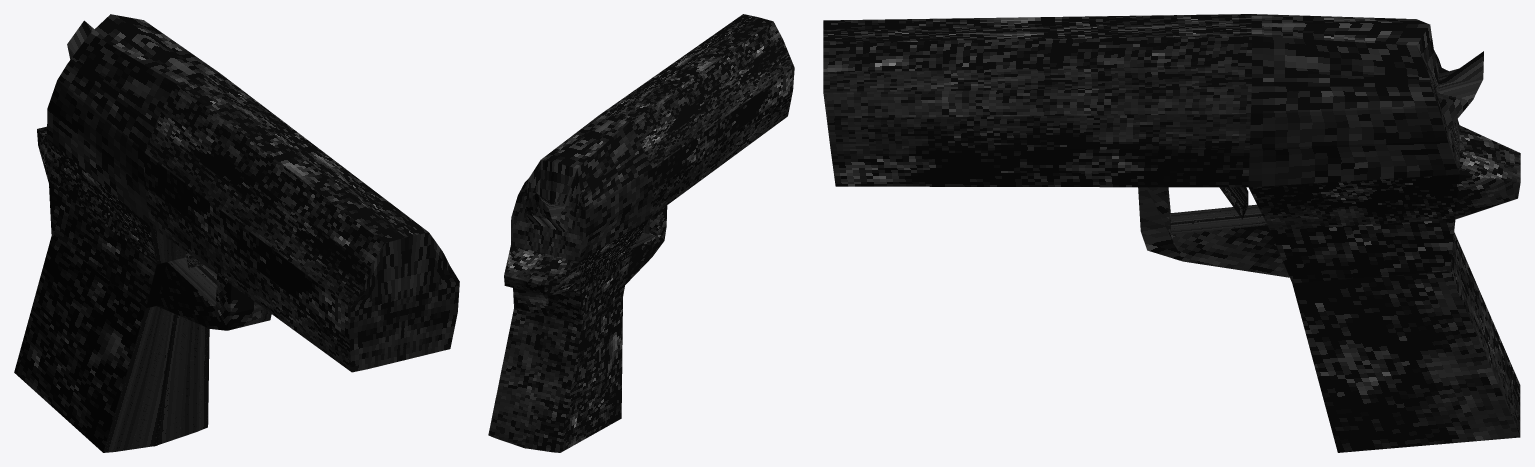
Rendered from gun textured 1.fbx.
3 renders of one model, left to right at view 1: azimuth 30°, elevation 25°; view 2: azimuth 150°, elevation 25°; view 3: azimuth 270°, elevation 25°, orthographic. The views are drawn at different scales.
Parts seen in each view (by area): view 1: Cube.001; view 2: Cube.001; view 3: Cube.001.
Boxes of the visible parts, bbox=[...] form: Cube.001: bbox=[14, 14, 459, 452]; Cube.001: bbox=[488, 14, 794, 452]; Cube.001: bbox=[823, 14, 1520, 452].
Bounding box in the file's own units: 53.74 × 189 × 291.
Materials: 1 (1 with a texture image).
